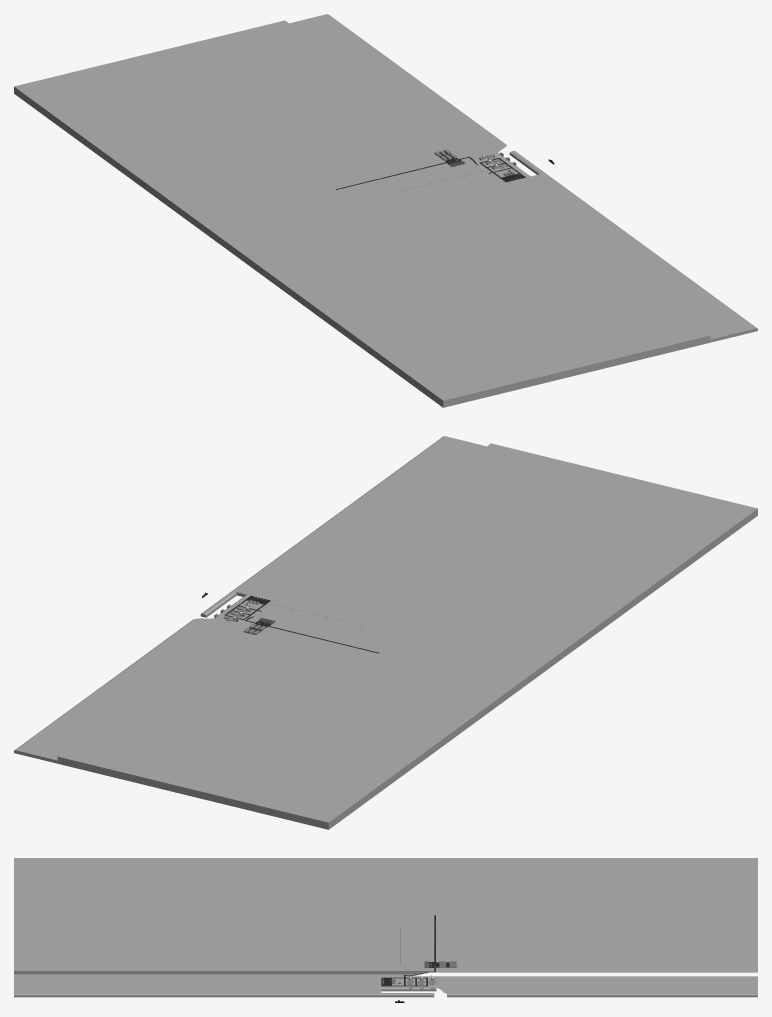
The picture shows the model from 3 angles, top to bottom: view 1: azimuth 30°, elevation 25°; view 2: azimuth 150°, elevation 25°; view 3: azimuth 270°, elevation 25°; orthographic projection. The views are drawn at different scales.
Parts seen in each view (by area): view 1: NonCliquable; view 2: NonCliquable; view 3: NonCliquable.
Boxes of the visible parts, x1,y1,x2,y2 form: NonCliquable: [14, 14, 757, 407]; NonCliquable: [14, 436, 757, 829]; NonCliquable: [14, 858, 757, 997].
Size of the model in its own units: 4.42 by 0.1398 by 9.91.
Materials: 35 (33 with a texture image).
